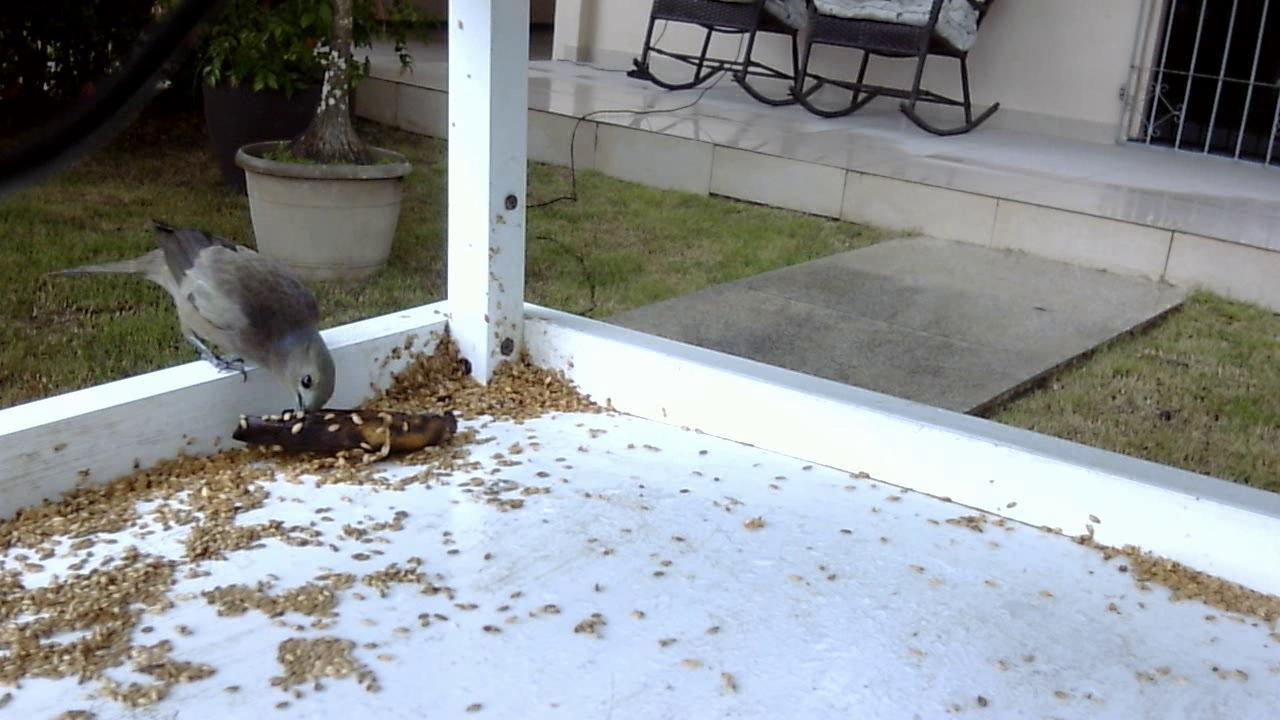sanhaco_do_coqueiro: (45, 211, 343, 425)
